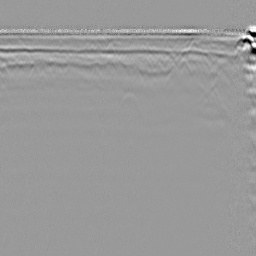cavity: (117, 90, 142, 116)
